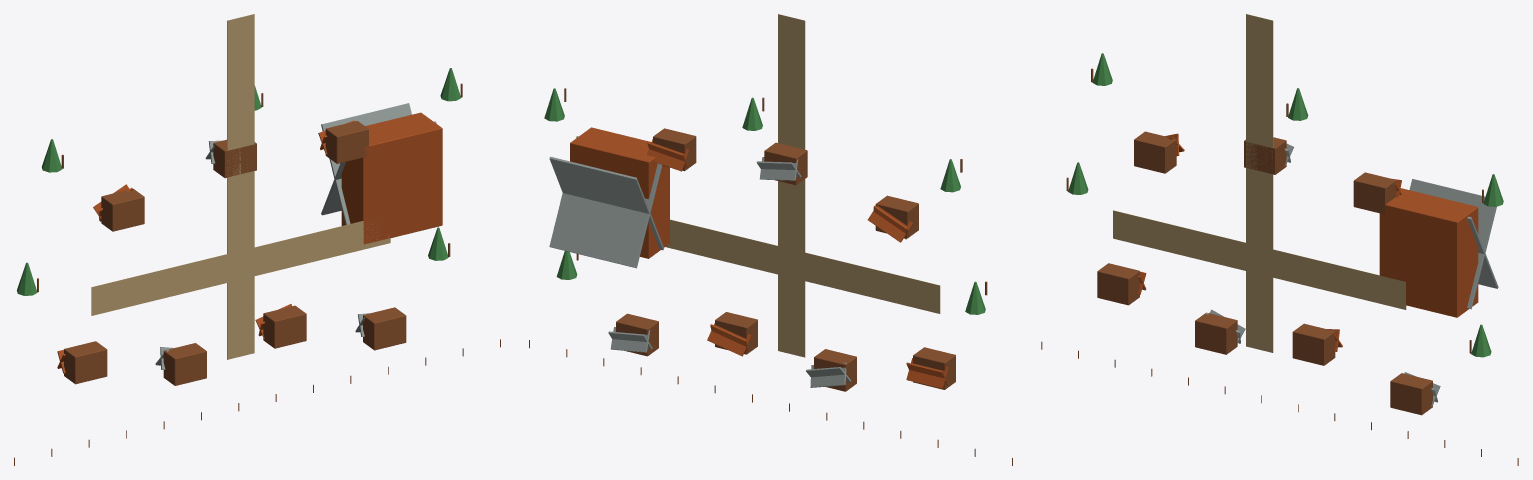
The model's file is field_village_cluster.glb.
3 views of the same model, side by side, from view 1: azimuth 30°, elevation 25°; view 2: azimuth 150°, elevation 25°; view 3: azimuth 330°, elevation 25° (orthographic). The views are drawn at different scales.
Visible parts, largest first — view 1: village_barn_wall, street_cross, street_main, house_2_wall, house_0_wall, house_3_wall, house_1_wall, house_4_wall, house_6_wall, house_5_wall, village_barn_roof, village_barn_roof.001; view 2: street_main, street_cross, village_barn_roof.001, village_barn_wall, village_barn_roof, house_5_wall, house_3_wall, house_1_wall, house_0_wall, house_6_wall, house_2_wall, house_4_wall (+3 smaller); view 3: village_barn_wall, street_cross, street_main, village_barn_roof, house_2_wall, house_0_wall, house_1_wall, house_3_wall, house_4_wall, house_6_wall, house_5_wall, village_barn_roof.001.
Boxes of the visible parts, bbox=[...] form: village_barn_wall: bbox=[341, 112, 442, 244]; street_cross: bbox=[227, 14, 254, 359]; street_main: bbox=[91, 221, 390, 315]; house_2_wall: bbox=[263, 305, 306, 348]; house_0_wall: bbox=[64, 341, 107, 384]; house_3_wall: bbox=[363, 307, 406, 350]; house_1_wall: bbox=[163, 343, 206, 385]; house_4_wall: bbox=[101, 188, 144, 231]; house_6_wall: bbox=[325, 121, 368, 163]; house_5_wall: bbox=[213, 139, 256, 178]; village_barn_roof: bbox=[321, 103, 411, 224]; village_barn_roof.001: bbox=[321, 121, 436, 215]; street_main: bbox=[665, 219, 940, 313]; street_cross: bbox=[778, 14, 805, 357]; village_barn_roof.001: bbox=[549, 136, 662, 268]; village_barn_wall: bbox=[570, 127, 669, 258]; village_barn_roof: bbox=[549, 156, 663, 250]; house_5_wall: bbox=[764, 142, 807, 185]; house_3_wall: bbox=[616, 313, 658, 356]; house_1_wall: bbox=[814, 349, 856, 391]; house_0_wall: bbox=[913, 347, 955, 389]; house_6_wall: bbox=[653, 128, 696, 171]; house_2_wall: bbox=[715, 312, 757, 354]; house_4_wall: bbox=[875, 195, 918, 238]; village_barn_wall: bbox=[1379, 188, 1478, 317]; street_cross: bbox=[1246, 14, 1273, 352]; street_main: bbox=[1113, 210, 1406, 309]; village_barn_roof: bbox=[1409, 179, 1496, 309]; house_2_wall: bbox=[1292, 323, 1335, 365]; house_0_wall: bbox=[1097, 263, 1139, 305]; house_1_wall: bbox=[1195, 313, 1237, 354]; house_3_wall: bbox=[1390, 373, 1432, 415]; house_4_wall: bbox=[1134, 131, 1176, 173]; house_6_wall: bbox=[1353, 172, 1396, 214]; house_5_wall: bbox=[1244, 137, 1286, 174]; village_barn_roof.001: bbox=[1467, 216, 1498, 288].
Size of the model in its own units: 78.14 by 60.6 by 10.68.
